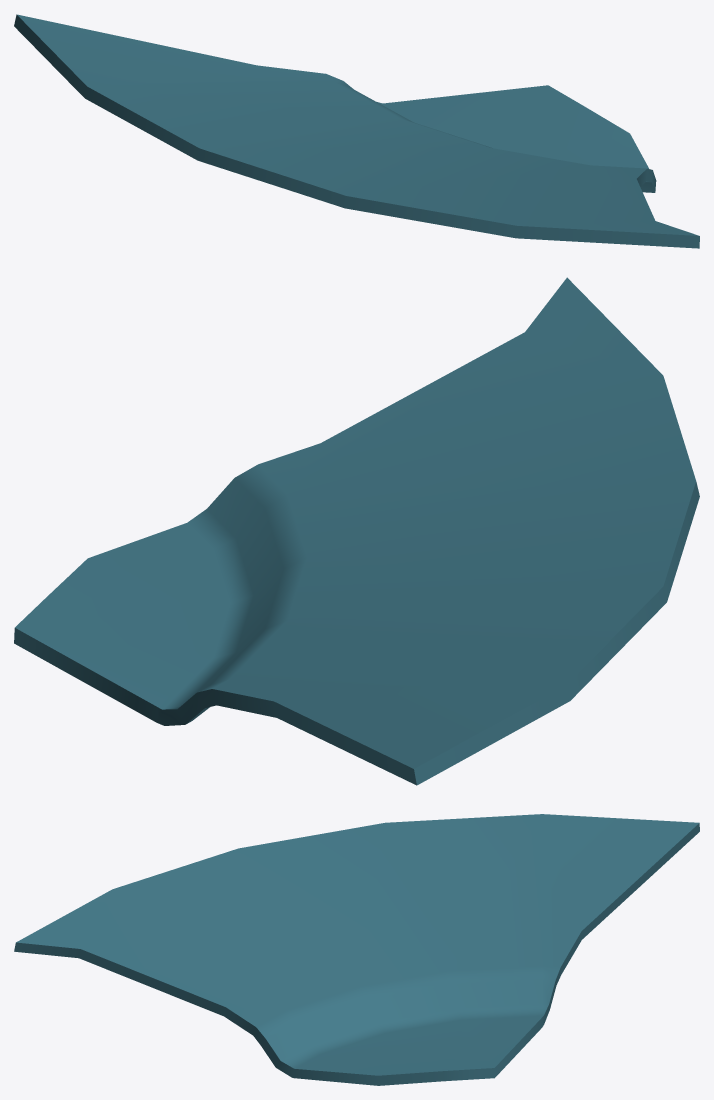
Rendered from SM_SmallTrashkit_Plat3_003.fbx.
3 renders of one model, top to bottom at view 1: azimuth 30°, elevation 25°; view 2: azimuth 150°, elevation 25°; view 3: azimuth 270°, elevation 25°, orthographic. The views are drawn at different scales.
Visible parts, largest first — view 1: SM_SmallTrashkit_Plat3_003; view 2: SM_SmallTrashkit_Plat3_003; view 3: SM_SmallTrashkit_Plat3_003.
Part boxes in pixels (x1,y1,x2,y2): SM_SmallTrashkit_Plat3_003: (14, 14, 699, 248); SM_SmallTrashkit_Plat3_003: (14, 277, 699, 785); SM_SmallTrashkit_Plat3_003: (14, 814, 699, 1085).
Bounding box in the file's own units: 15.81 × 3.41 × 24.28.
